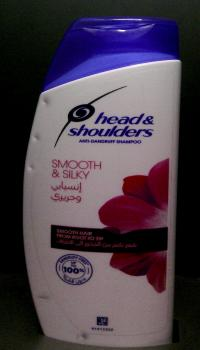dent_marginal: (26, 160, 45, 178), (74, 326, 94, 343), (38, 96, 60, 110), (34, 290, 56, 304), (30, 132, 47, 144)
